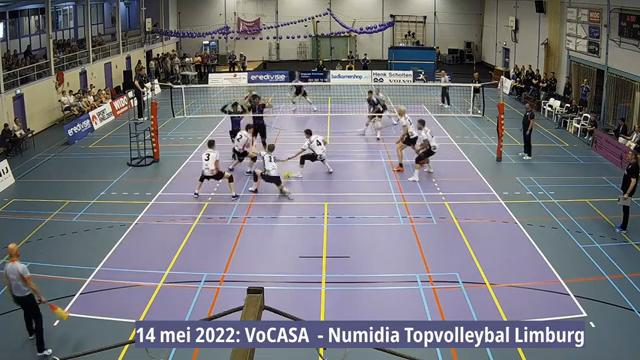Dig: (282, 123, 336, 174), (248, 140, 293, 200)
Player: (194, 139, 238, 199), (408, 119, 437, 181), (394, 106, 417, 171), (228, 124, 256, 174), (249, 94, 271, 149), (221, 102, 247, 141), (363, 90, 383, 139), (291, 71, 316, 110), (374, 88, 396, 124), (244, 87, 257, 107)
ball: (282, 169, 292, 183)
